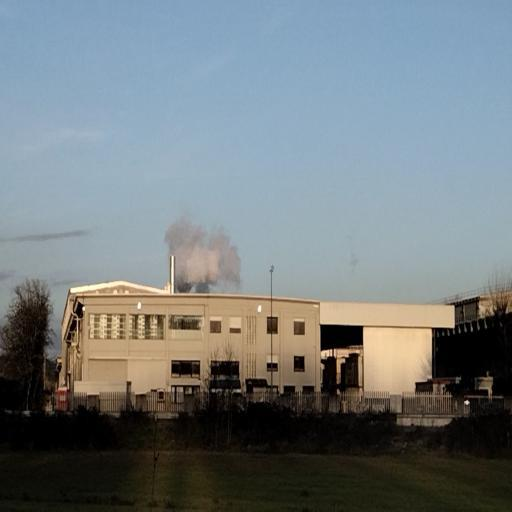leakage: (162, 204, 244, 297)
